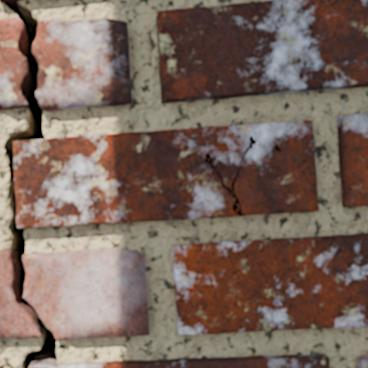brick: (14, 121, 317, 227), (157, 0, 367, 102), (172, 234, 367, 333), (30, 355, 328, 367), (337, 114, 367, 206), (356, 357, 367, 367)
broken_brick: (24, 246, 149, 340), (34, 17, 132, 111), (0, 249, 39, 339), (0, 16, 25, 110)
crack: (1, 0, 59, 367), (203, 135, 256, 216)
